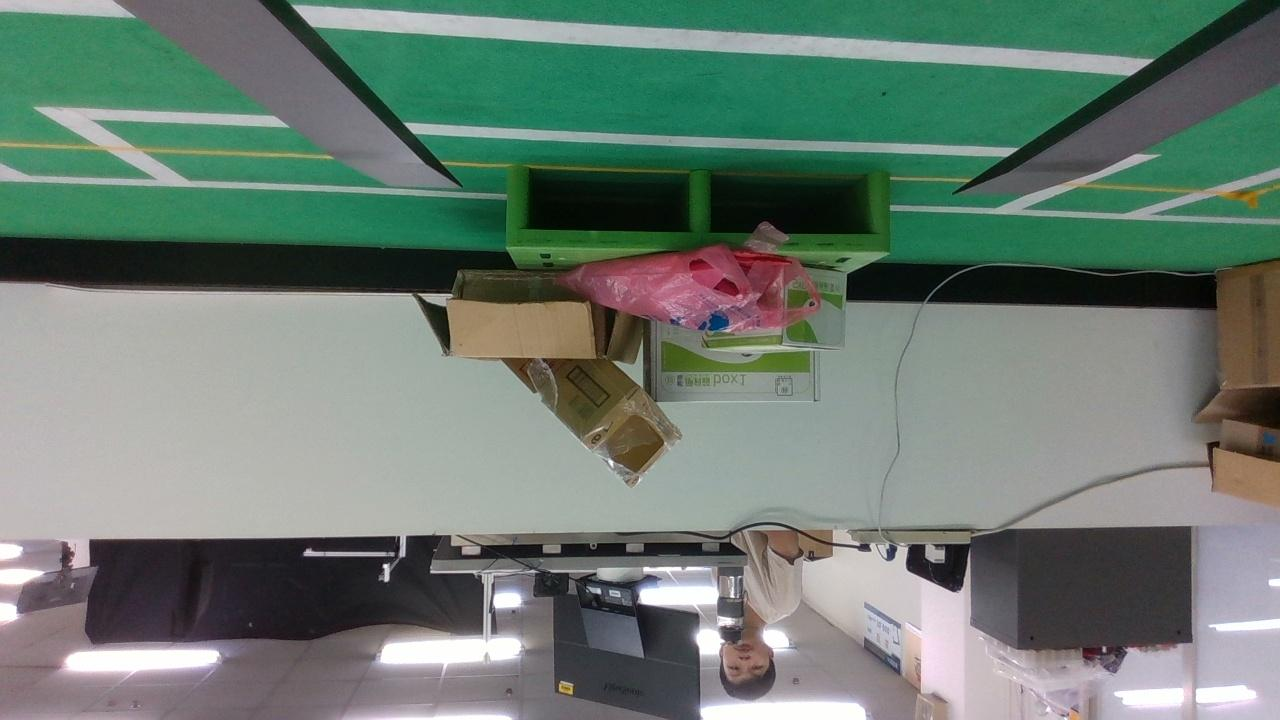Pallet: (506, 164, 891, 252)
